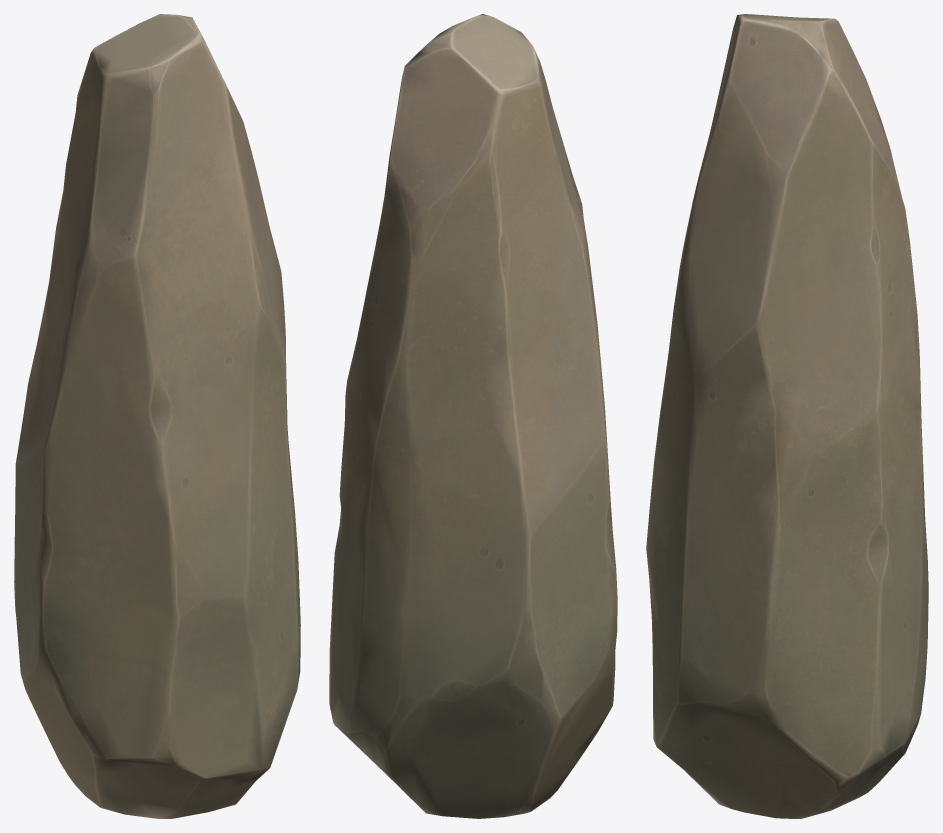
File: SM_Rock_Medium_1.fbx
3 renders of one model, left to right at view 1: azimuth 30°, elevation 25°; view 2: azimuth 150°, elevation 25°; view 3: azimuth 270°, elevation 25°, orthographic. The views are drawn at different scales.
Visible parts, largest first — view 1: SM_Rock_Medium_1_LOD0; view 2: SM_Rock_Medium_1_LOD0; view 3: SM_Rock_Medium_1_LOD0.
Boxes of the visible parts, left/top/right/bottom form: SM_Rock_Medium_1_LOD0: left=14, top=14, right=300, bottom=818; SM_Rock_Medium_1_LOD0: left=329, top=14, right=617, bottom=818; SM_Rock_Medium_1_LOD0: left=646, top=14, right=928, bottom=818.
Bounding box in the file's own units: 98.44 × 93.38 × 284.
1 material, 1 textured.
